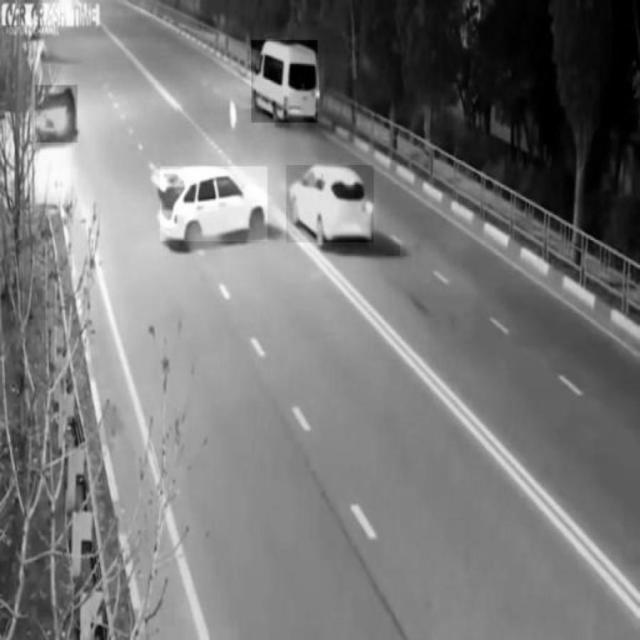vehicle: (160, 167, 268, 241), (286, 166, 374, 243), (252, 40, 318, 122), (34, 86, 78, 143)
